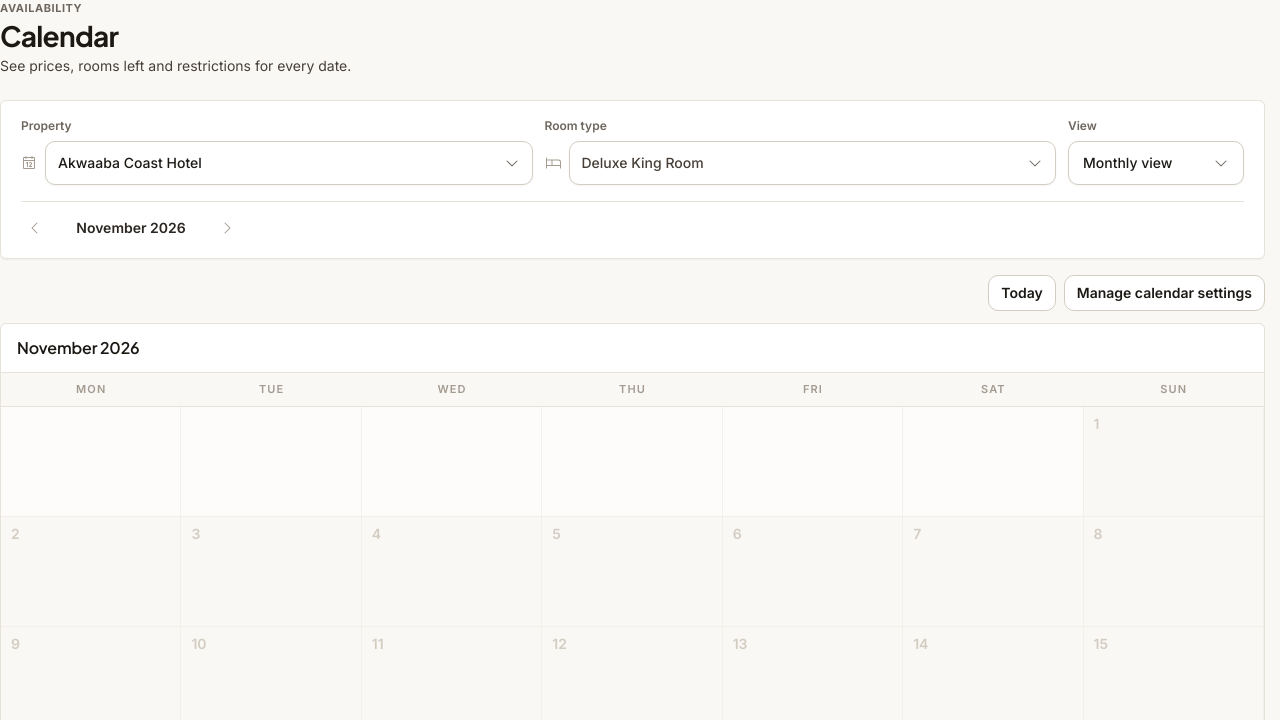
Test case: Availability bulk tools › switches between Monthly and Yearly calendar views
Expected: the heading "November 2026" is shown, [17,337,140,358]
Expected: the button "Today" is shown, [988,275,1056,311]
What coordinates should you click on to do the following:
click the dropdown named "Calendar view"
I would click on:
 (1156, 163)
Its box is [1068,141,1244,185].
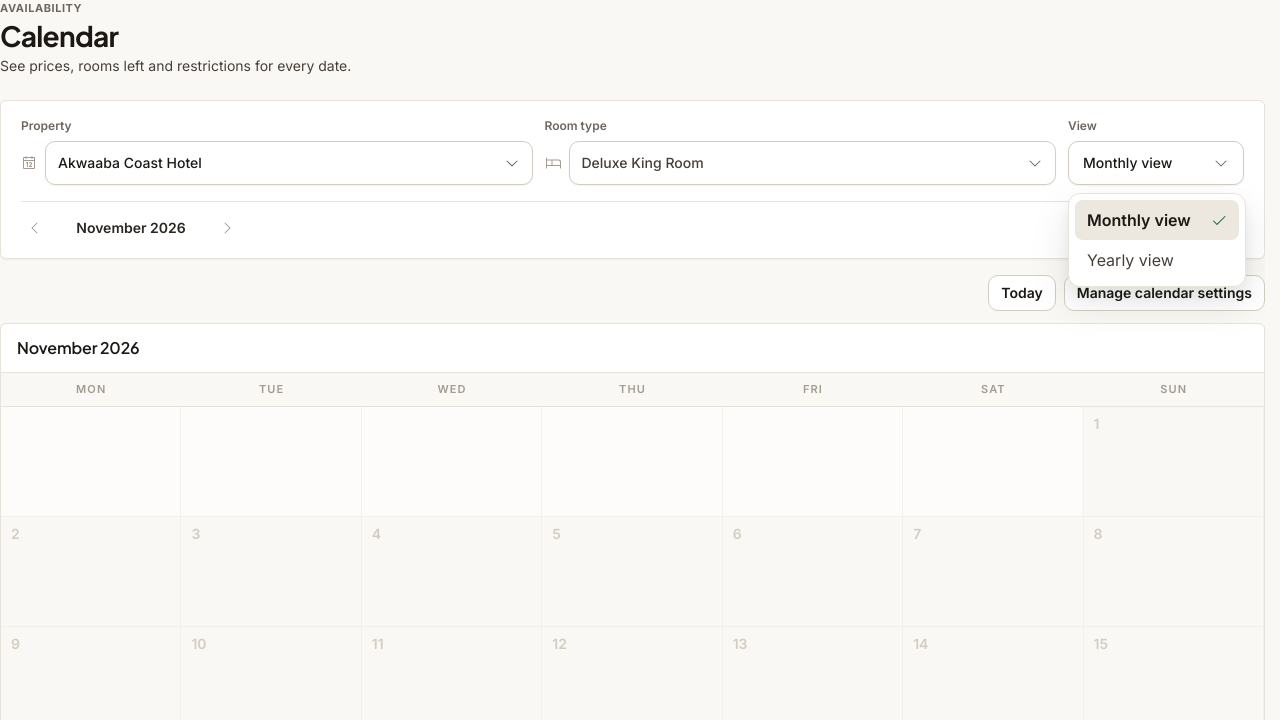
Expected: the options read "Monthly view", "Yearly view", in this order
What coordinates should you click on to do the following:
click the option "Yearly view"
I would click on:
 (1130, 260)
Its box is [1087,250,1174,270].
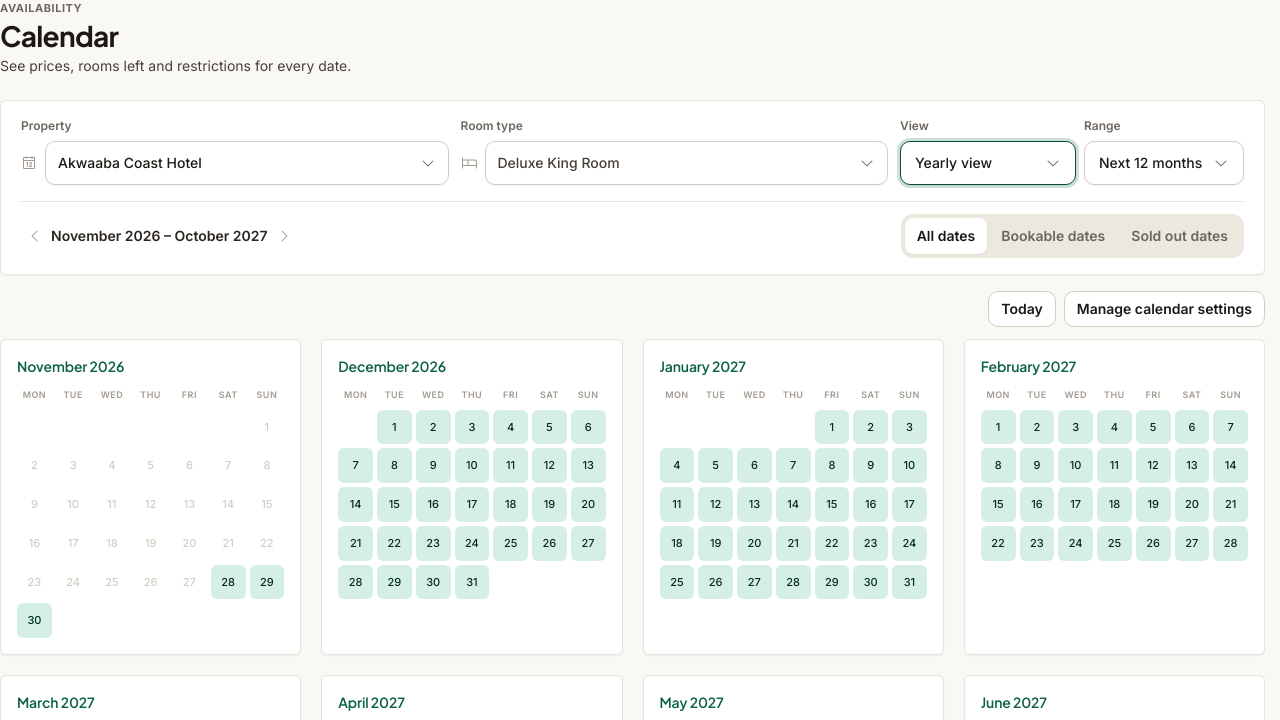
Expected: the dropdown named "Calendar range" reads "Next 12 months", [1084,141,1244,185]
Expected: the tab "Bookable dates" is shown, [989,218,1117,254]
Expected: the tab "Sold out dates" is shown, [1119,218,1240,254]
What coordinates should you click on to do the following:
click the dropdown named "Calendar view"
I would click on:
 (988, 163)
Its box is [900,141,1076,185].
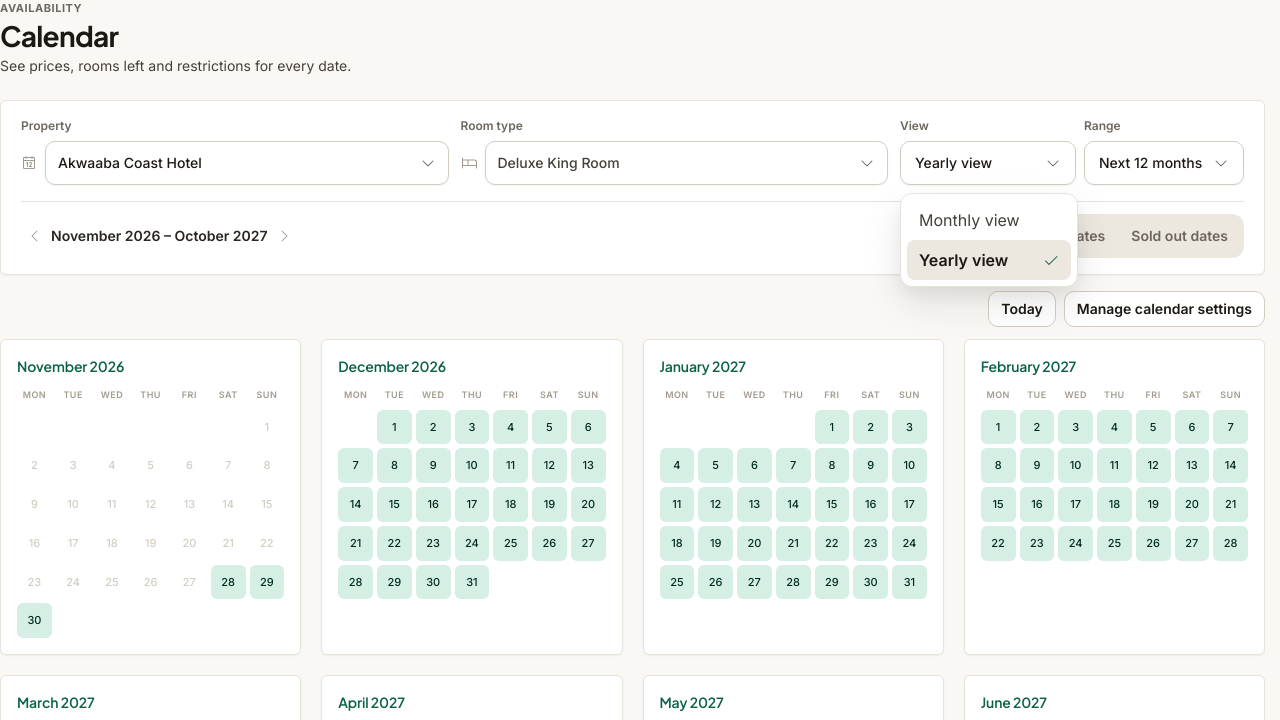
What coordinates should you click on to do the following:
click the option "Monthly view"
I would click on:
 (969, 220)
Its box is [919,210,1020,230].
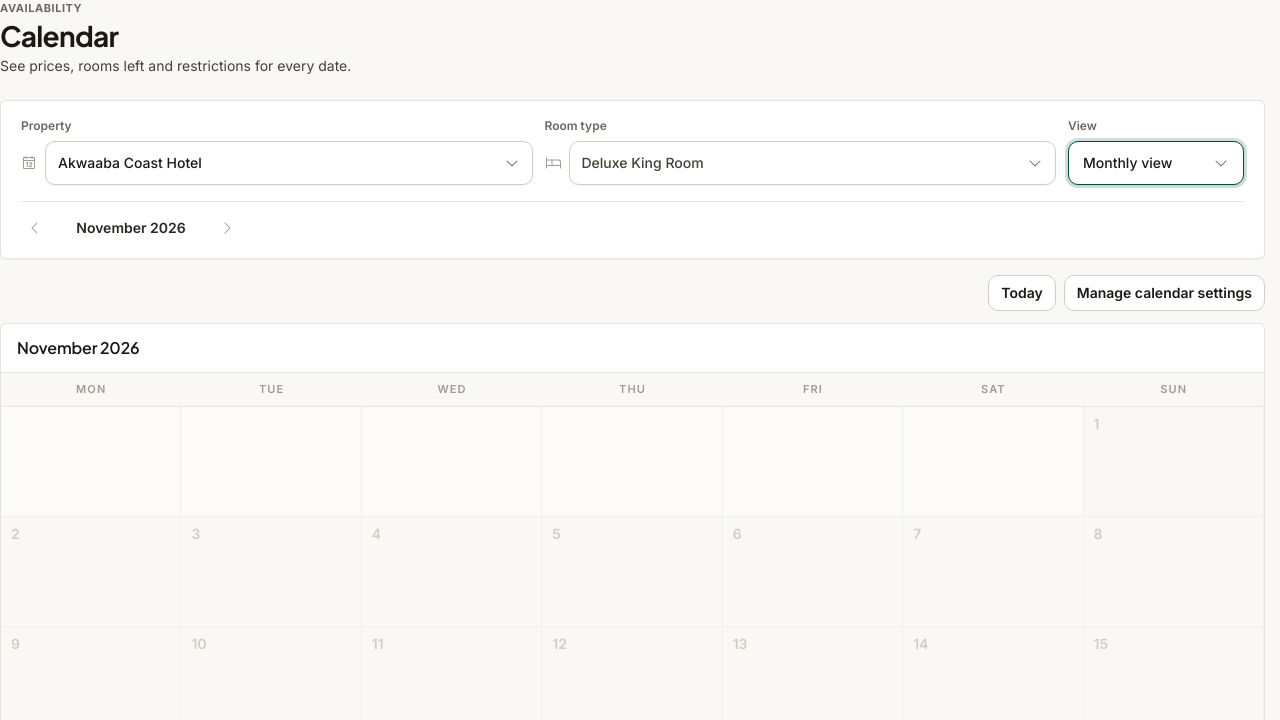
Expected: the dropdown named "Calendar view" reads "Monthly view", [1068,141,1244,185]
